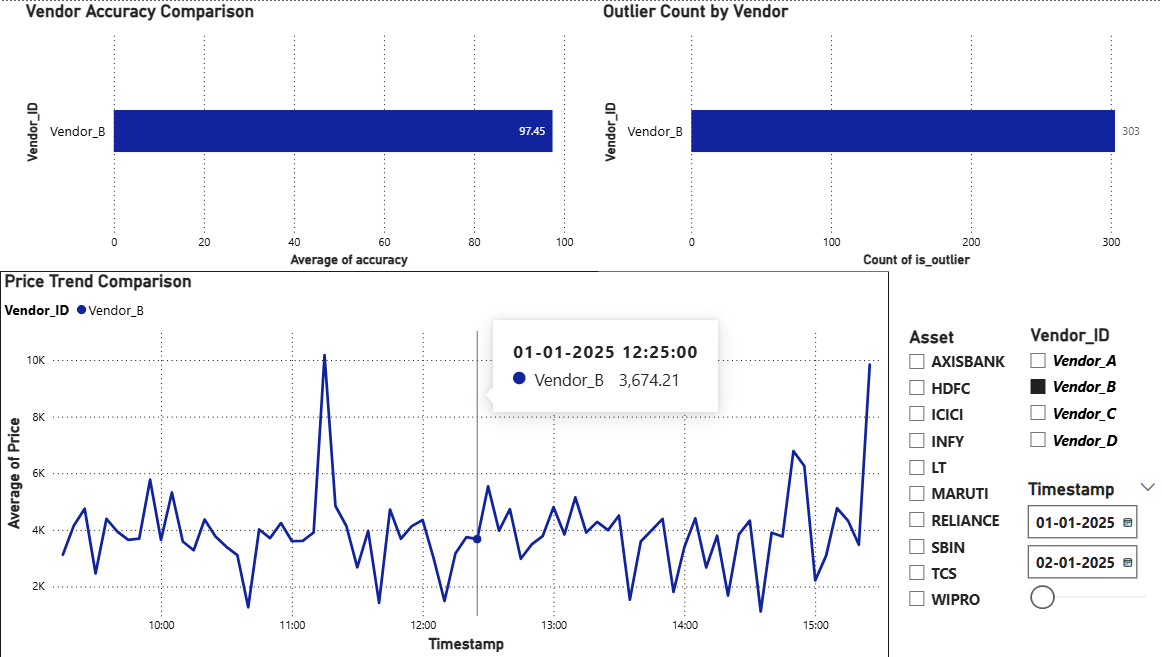

This screenshot's page, from the dashboard's own definition file:
{"tool":"powerbi","page":{"name":"Page 1","canvas":[1280,720],"ordinal":0},"visuals":[{"type":"clusteredBarChart","title":"Vendor Accuracy Comparison","fields":{"Category":["processed_prices.Vendor_ID"],"Y":["Avg(processed_prices.accuracy)"]},"box":[23.3,0,633.3,296.7],"z":0},{"type":"lineChart","title":"Price Trend Comparison","fields":{"Series":["processed_prices.Vendor_ID"],"Category":["processed_prices.Timestamp"],"Y":["Avg(processed_prices.Price)"]},"box":[0,296.7,975,423.3],"z":1000},{"type":"clusteredBarChart","title":"Outlier Count by Vendor","fields":{"Category":["processed_prices.Vendor_ID"],"Y":["CountNonNull(processed_prices.is_outlier)"]},"box":[656.7,0,611.7,296.7],"z":2000},{"type":"slicer","fields":{"Values":["processed_prices.Asset"]},"box":[985,353.3,133.3,335],"z":3000},{"type":"slicer","fields":{"Values":["processed_prices.Vendor_ID"]},"box":[1118.3,351.7,161.7,163.3],"z":4000},{"type":"slicer","fields":{"Values":["processed_prices.Timestamp"]},"box":[1115,520,165,178.3],"z":5000}]}

Visuals, with their boxes in screenshot pixels (x1, y1, x2, y2), scaled from the page's 1280x720 canvas onto the 1162x657 screenshot:
"Vendor Accuracy Comparison" clusteredBarChart: <region>21, 0, 596, 271</region>
"Price Trend Comparison" lineChart: <region>0, 271, 885, 656</region>
"Outlier Count by Vendor" clusteredBarChart: <region>596, 0, 1151, 271</region>
slicer - processed_prices.Asset: <region>894, 322, 1015, 628</region>
slicer - processed_prices.Vendor_ID: <region>1015, 321, 1161, 470</region>
slicer - processed_prices.Timestamp: <region>1012, 474, 1161, 637</region>
